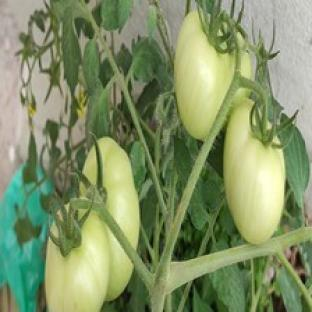Tomato: (225, 99, 285, 243), (175, 12, 235, 140), (45, 212, 110, 311), (98, 137, 139, 247)
